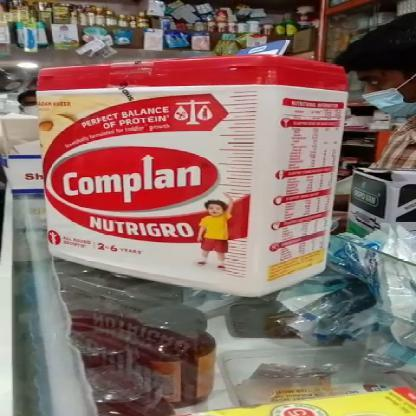Complan Nutrigro Badam Kheer: (42, 68, 322, 264)
